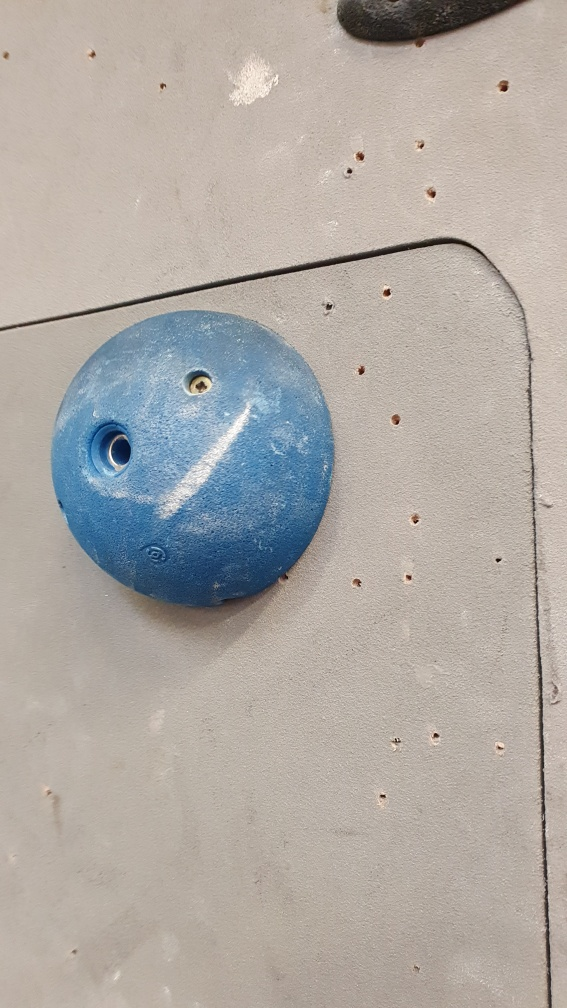Sloper: (46, 306, 338, 612)
